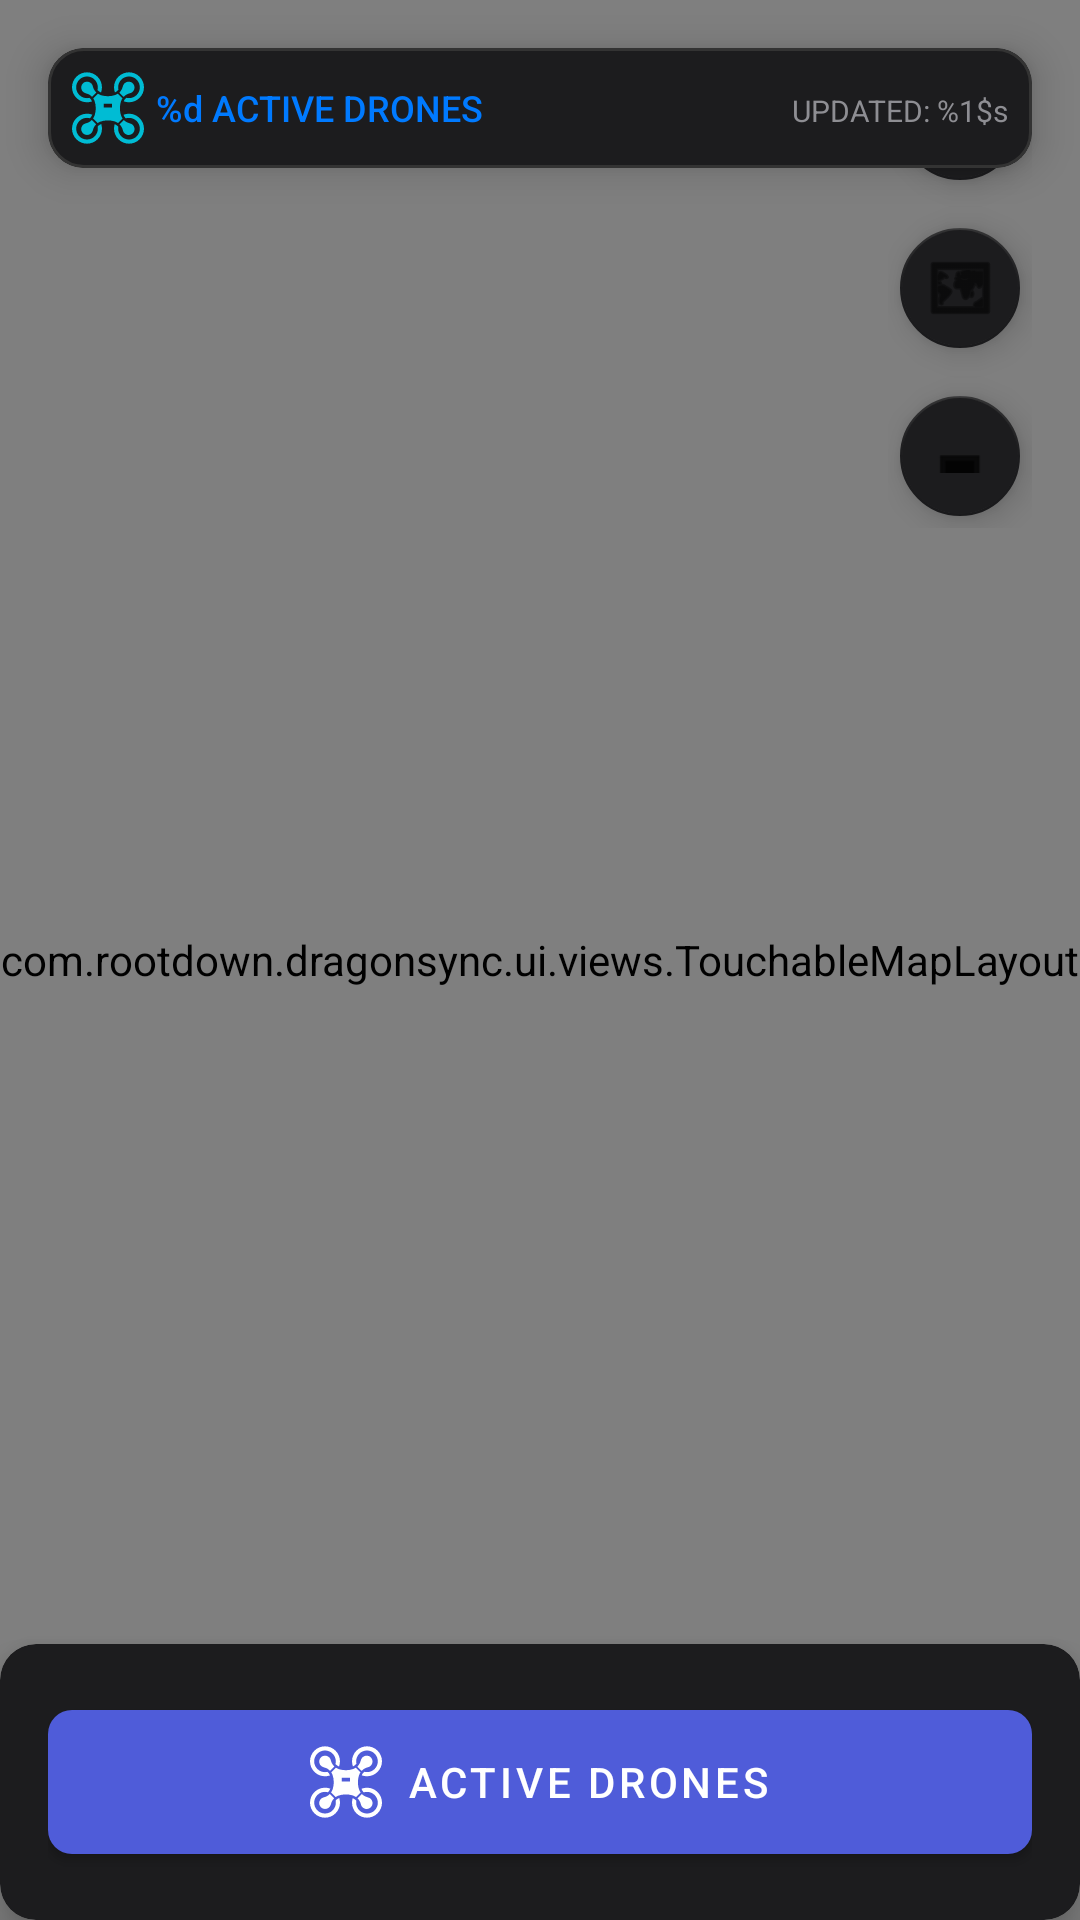

Where to tap for icons on this 1080x1920 app screen, as (x,y):
Change map type: (960,288)
